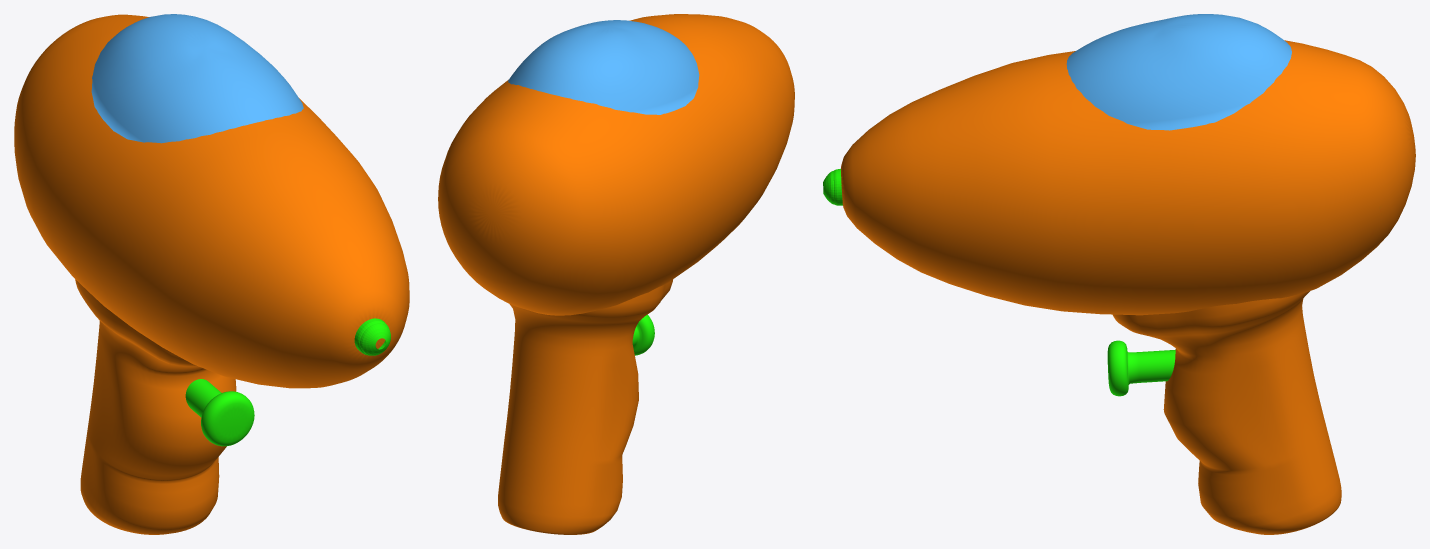
File: SILAH.fbx
3 views of the same model, side by side, from view 1: azimuth 30°, elevation 25°; view 2: azimuth 150°, elevation 25°; view 3: azimuth 270°, elevation 25° (orthographic). The views are drawn at different scales.
Parts seen in each view (by area): view 1: Circle; view 2: Circle; view 3: Circle.
Boxes of the visible parts, box(x1,y1,x2,y2) form: Circle: box(14, 14, 409, 534); Circle: box(438, 14, 794, 534); Circle: box(823, 14, 1415, 534).
Size of the model in its own units: 27.71 by 55.37 by 59.6.
